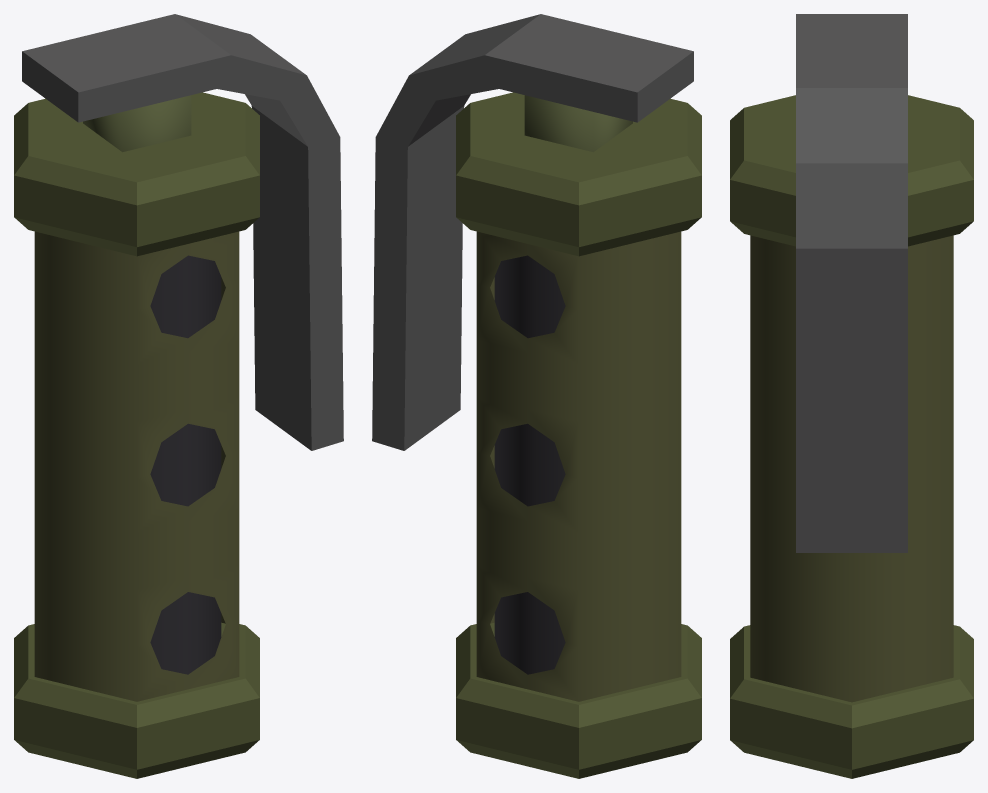
The model's file is b72fc2e2-f967-464b-ba81-74eca7af742a.glb.
3 renders of one model, left to right at view 1: azimuth 30°, elevation 25°; view 2: azimuth 150°, elevation 25°; view 3: azimuth 270°, elevation 25°, orthographic.
Visible parts, largest first — view 1: flash03, flash02, flash01; view 2: flash03, flash02, flash01; view 3: flash03, flash02.
Boxes of the visible parts, x1,y1,x2,y2 form: flash03: (14, 92, 259, 778); flash02: (22, 14, 343, 450); flash01: (83, 95, 191, 152); flash03: (456, 92, 701, 778); flash02: (372, 14, 693, 450); flash01: (524, 95, 632, 152); flash03: (730, 95, 973, 778); flash02: (796, 14, 907, 552).
Size of what is drawn, in the model's own units: 0.074 by 0.1582 by 0.0522.
1 material, 1 textured.
